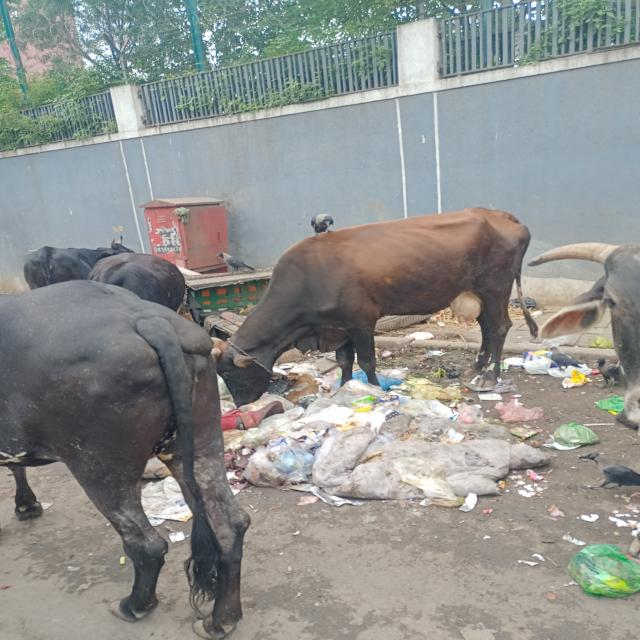garbage: (226, 368, 552, 507)
